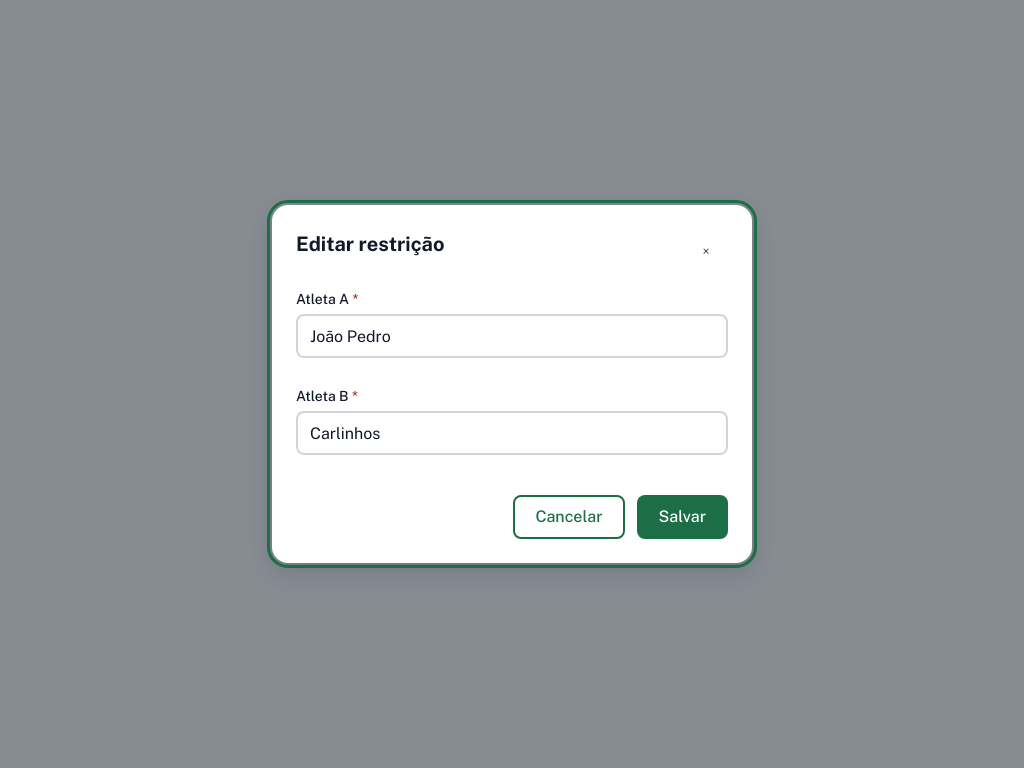
RestricaoFormModal (T10, FE-10) › 404 de restrição inexistente (edição) também usa o erro genérico literal
Step 1. Click the button "Salvar" → [682, 517], box [637,495,728,539]
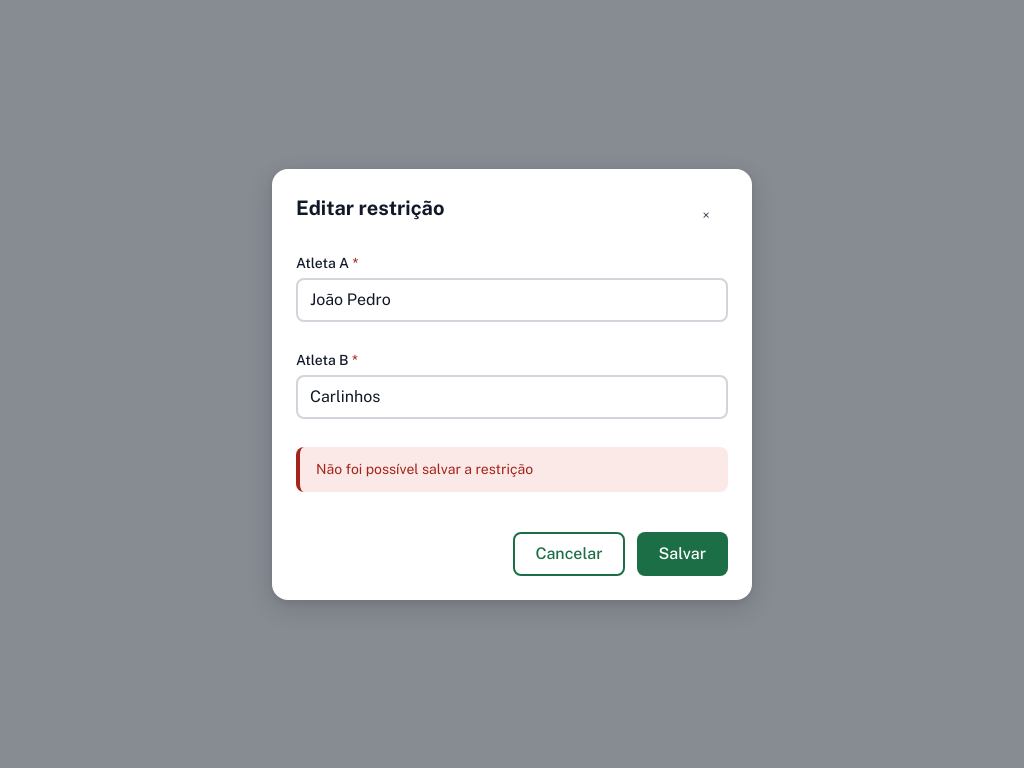
Expected: the text "Não foi possível salvar a restrição" is shown, [296,446,728,492]
